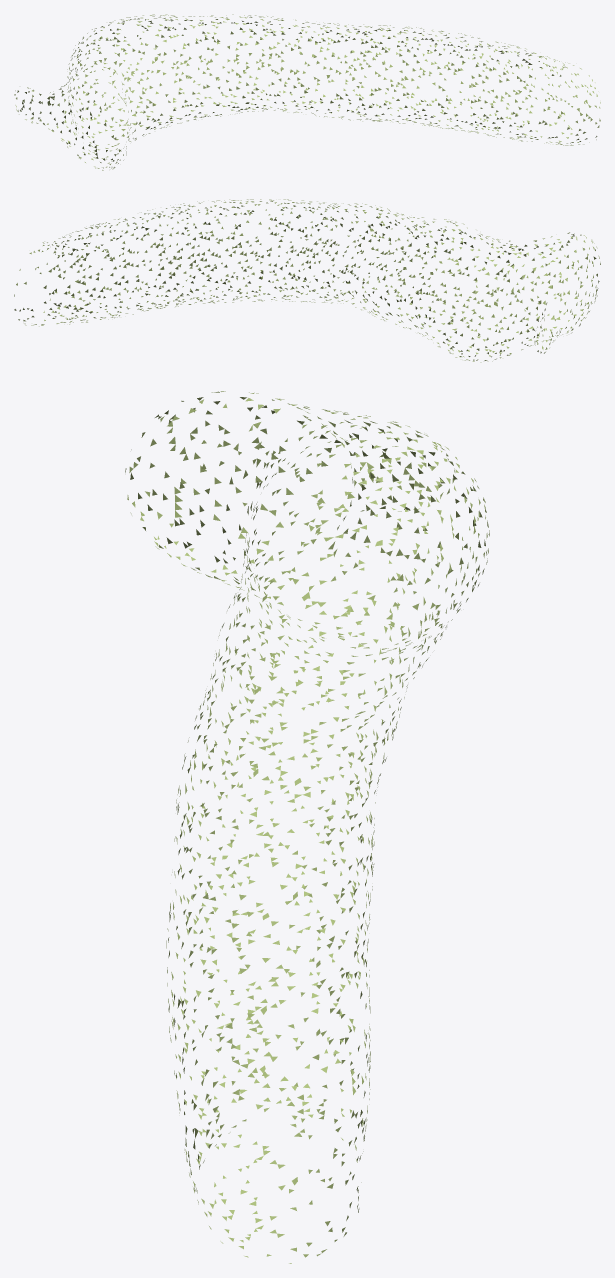
Rendered from morph_011.glb.
The picture shows the model from 3 angles, top to bottom: view 1: azimuth 30°, elevation 25°; view 2: azimuth 150°, elevation 25°; view 3: azimuth 270°, elevation 25°; orthographic projection. The views are drawn at different scales.
Size of the model in its own units: 115 by 42.74 by 34.24.
